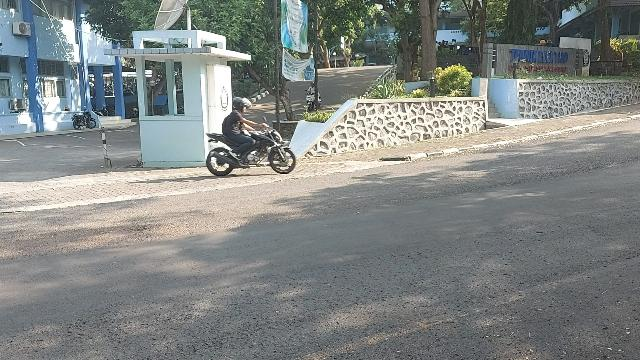helm: (234, 99, 253, 113)
motor: (208, 117, 297, 177)
